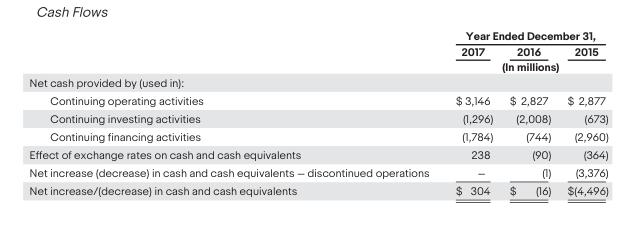table: (28, 29, 607, 196)
table column: (28, 29, 441, 196), (441, 29, 500, 196), (500, 29, 558, 196), (558, 29, 607, 196)
table column header: (28, 29, 607, 74)
table projected row header: (28, 74, 607, 90)
table row: (28, 108, 607, 127), (28, 90, 607, 108), (28, 127, 607, 145), (28, 145, 607, 163), (28, 163, 607, 181), (28, 58, 607, 74), (28, 74, 607, 90), (28, 43, 607, 58), (28, 181, 607, 196), (28, 29, 607, 43)
table spanning cell: (441, 58, 607, 74), (441, 29, 607, 43)
